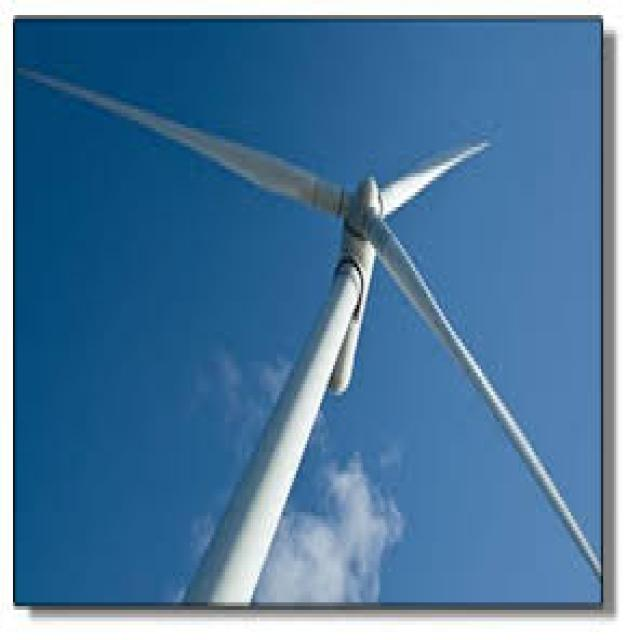solid-blade: (368, 217, 601, 576), (19, 69, 344, 212), (380, 141, 490, 217)
